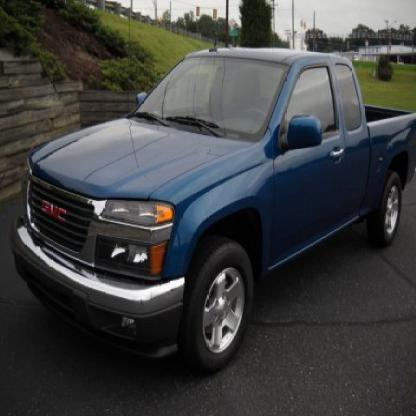Vehicle: (17, 43, 415, 366)
